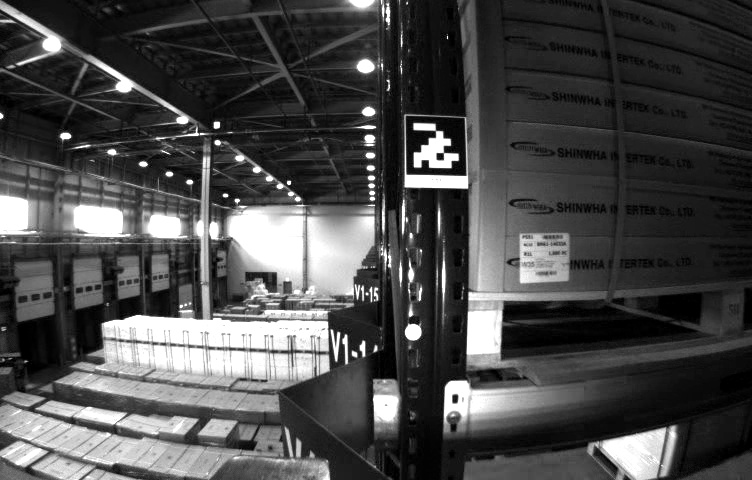True Barcode: (520, 232, 568, 281)
